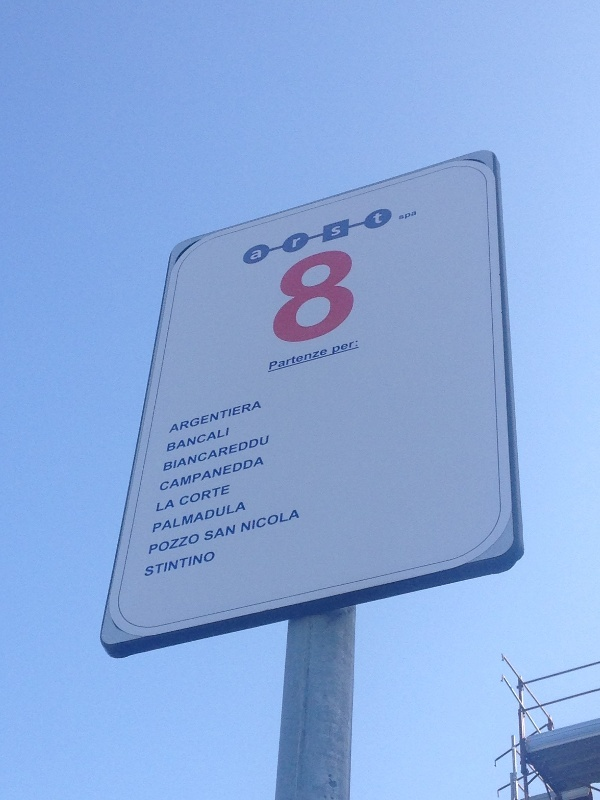text: (289, 246, 304, 353), (305, 246, 320, 353), (321, 246, 336, 353), (337, 246, 352, 353), (177, 435, 192, 472), (193, 435, 208, 472), (209, 435, 224, 472), (225, 435, 240, 472), (241, 435, 256, 472), (177, 456, 192, 493), (193, 456, 208, 493), (209, 456, 224, 493), (225, 456, 240, 493), (241, 456, 256, 493), (177, 400, 192, 435), (193, 400, 208, 435), (209, 400, 224, 435), (225, 400, 240, 435), (241, 400, 256, 435), (162, 456, 176, 493), (161, 501, 176, 534), (177, 501, 192, 534), (193, 501, 208, 534), (209, 501, 224, 534), (225, 501, 240, 534), (257, 435, 270, 472), (165, 435, 176, 472), (161, 550, 176, 577), (177, 550, 192, 577), (193, 550, 208, 577), (146, 550, 160, 577), (177, 427, 192, 452), (193, 427, 208, 452), (209, 427, 224, 452), (257, 509, 272, 533), (273, 509, 288, 533), (193, 484, 208, 507), (209, 484, 224, 507), (242, 509, 256, 533), (161, 533, 176, 555), (177, 533, 192, 555), (285, 246, 288, 353), (273, 349, 288, 370), (289, 349, 304, 370), (305, 349, 320, 370), (180, 484, 192, 507), (289, 509, 300, 533), (257, 456, 264, 493), (209, 525, 224, 542), (150, 533, 160, 555), (353, 246, 355, 353), (337, 341, 352, 355), (168, 427, 176, 452), (161, 499, 175, 513), (209, 550, 216, 577), (225, 525, 236, 542), (257, 400, 262, 435), (155, 501, 160, 534), (241, 501, 246, 534), (293, 238, 304, 252), (193, 533, 200, 555), (401, 211, 416, 221), (321, 349, 328, 370), (373, 213, 384, 226), (225, 484, 231, 507), (225, 427, 229, 452), (257, 249, 263, 261), (353, 341, 358, 355), (174, 400, 176, 435), (269, 349, 272, 370), (337, 225, 341, 238), (252, 249, 256, 261), (157, 499, 160, 513), (333, 341, 336, 355), (333, 225, 336, 238), (206, 525, 208, 542), (399, 211, 400, 221)
